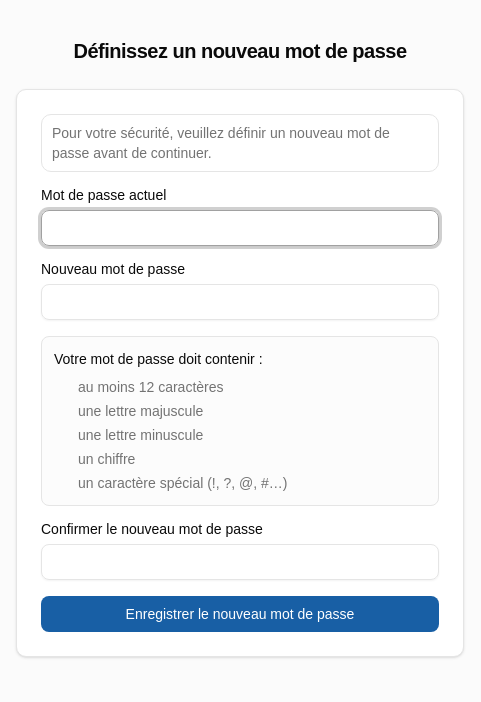
Test: PageMotDePasse › 400 → « mot de passe actuel incorrect »
This screenshot has width=481, height=702.
In the password field labelled "Mot de passe actuel": (240, 228) [41,210,439,246], type "MauvaisAncien!9"
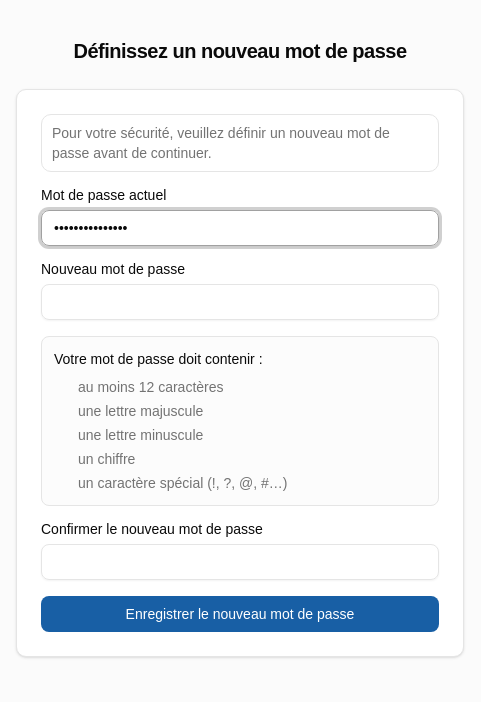
In the password field labelled "Nouveau mot de passe": (240, 302) [41,284,439,320], type "Guichet!Mifin2026"
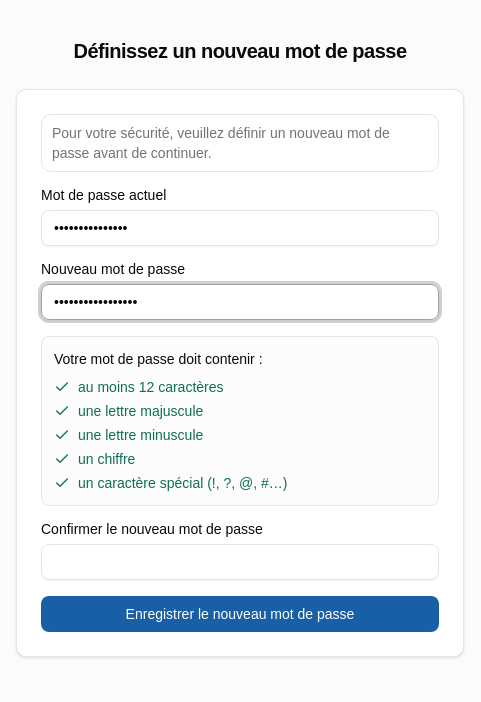
In the password field labelled "Confirmer le nouveau mot de passe": (240, 562) [41,544,439,580], type "Guichet!Mifin2026"
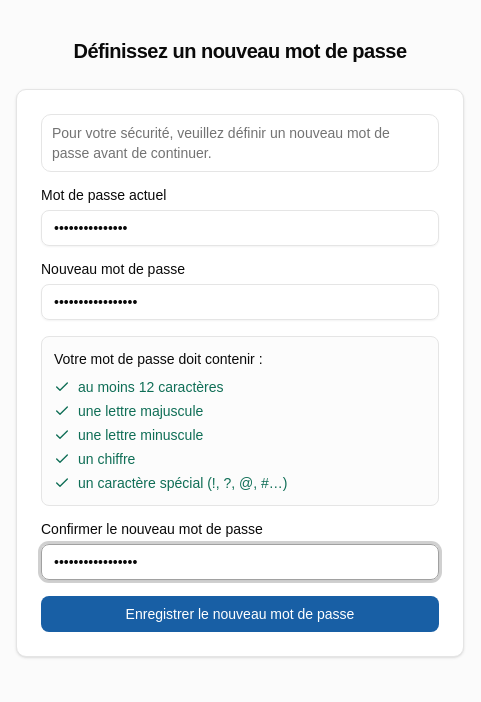
Click the button "Enregistrer le nouveau mot de passe": (240, 614) [41,596,439,632]
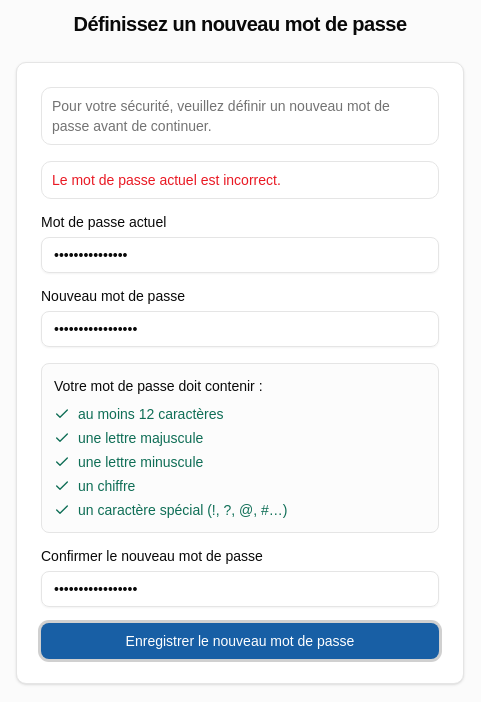
Expected: the text "Le mot de passe actuel est incorrect." is shown, [52,172,281,188]
